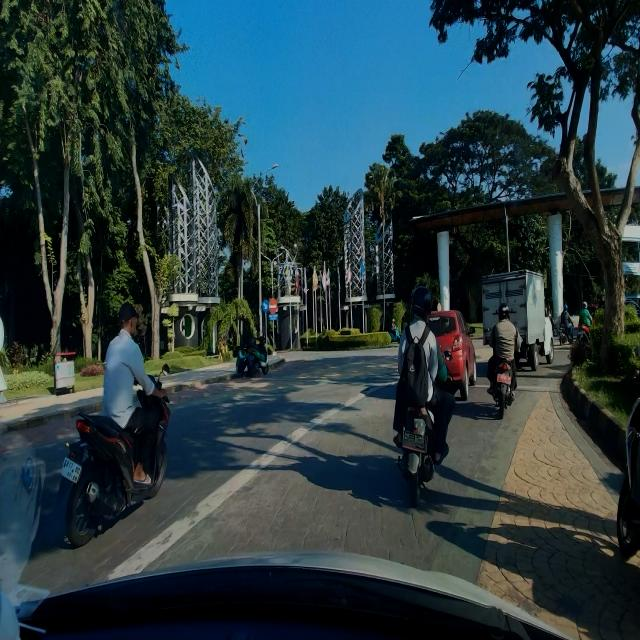car: (413, 306, 479, 406)
truck: (479, 269, 556, 374)
